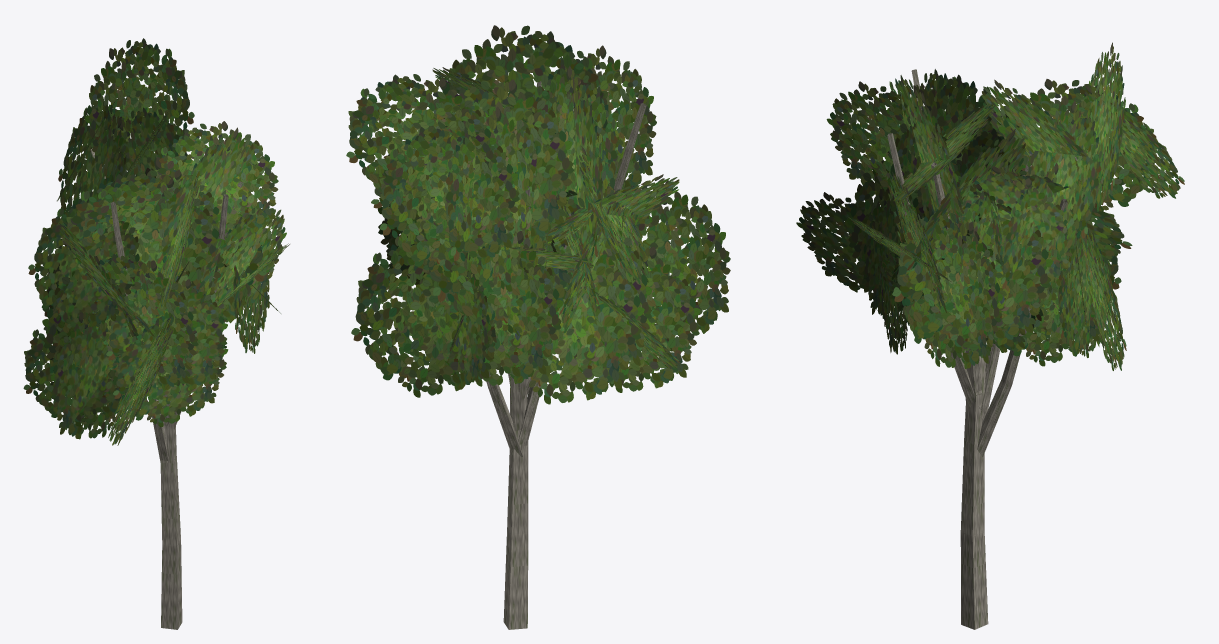
Rendered from Tree_Beech_1_LOD2.gltf.
The picture shows the model from 3 angles, left to right: view 1: azimuth 30°, elevation 25°; view 2: azimuth 150°, elevation 25°; view 3: azimuth 270°, elevation 25°; orthographic projection. The views are drawn at different scales.
Parts seen in each view (by area): view 1: Tree_Beech_1_LOD2; view 2: Tree_Beech_1_LOD2; view 3: Tree_Beech_1_LOD2.
Part boxes in pixels (bbox=[...]): Tree_Beech_1_LOD2: bbox=[23, 38, 289, 629]; Tree_Beech_1_LOD2: bbox=[346, 25, 730, 629]; Tree_Beech_1_LOD2: bbox=[796, 42, 1184, 629].
Size of the model in its own units: 12.38 by 23.51 by 15.35.
2 materials, 2 textured.
